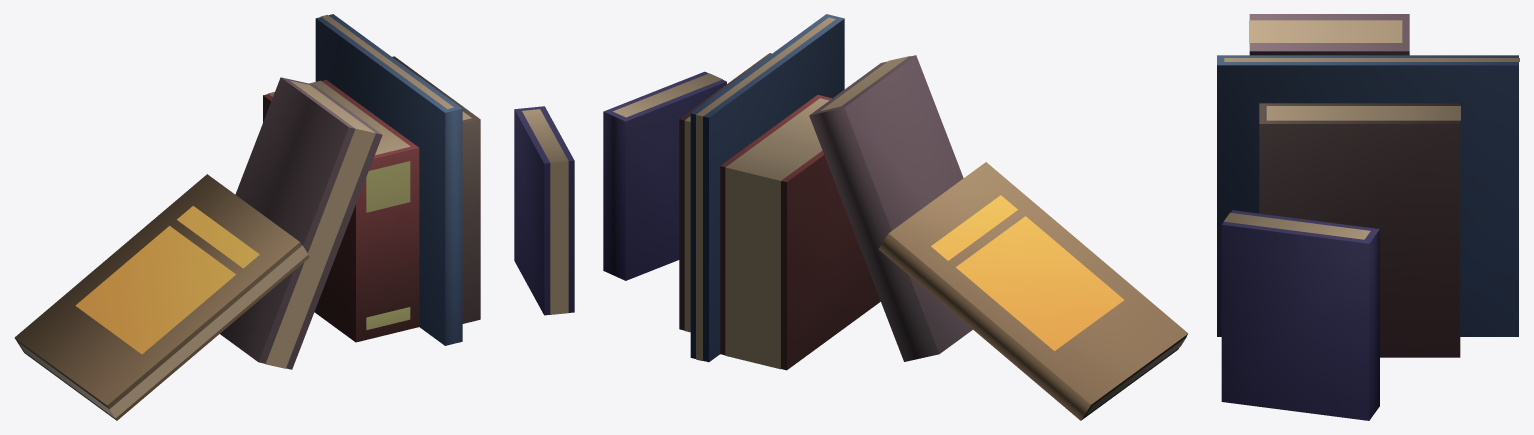
File: TSP_Books_01A.fbx
3 views of the same model, side by side, from view 1: azimuth 30°, elevation 25°; view 2: azimuth 150°, elevation 25°; view 3: azimuth 270°, elevation 25° (orthographic). The views are drawn at different scales.
Parts seen in each view (by area): view 1: TSP_Books_01A; view 2: TSP_Books_01A; view 3: TSP_Books_01A.
Part boxes in pixels (x1,y1,x2,y2): TSP_Books_01A: [14, 14, 574, 420]; TSP_Books_01A: [603, 14, 1188, 420]; TSP_Books_01A: [1217, 14, 1519, 420].
Size of the model in its own units: 0.7428 by 0.333 by 0.3355.
